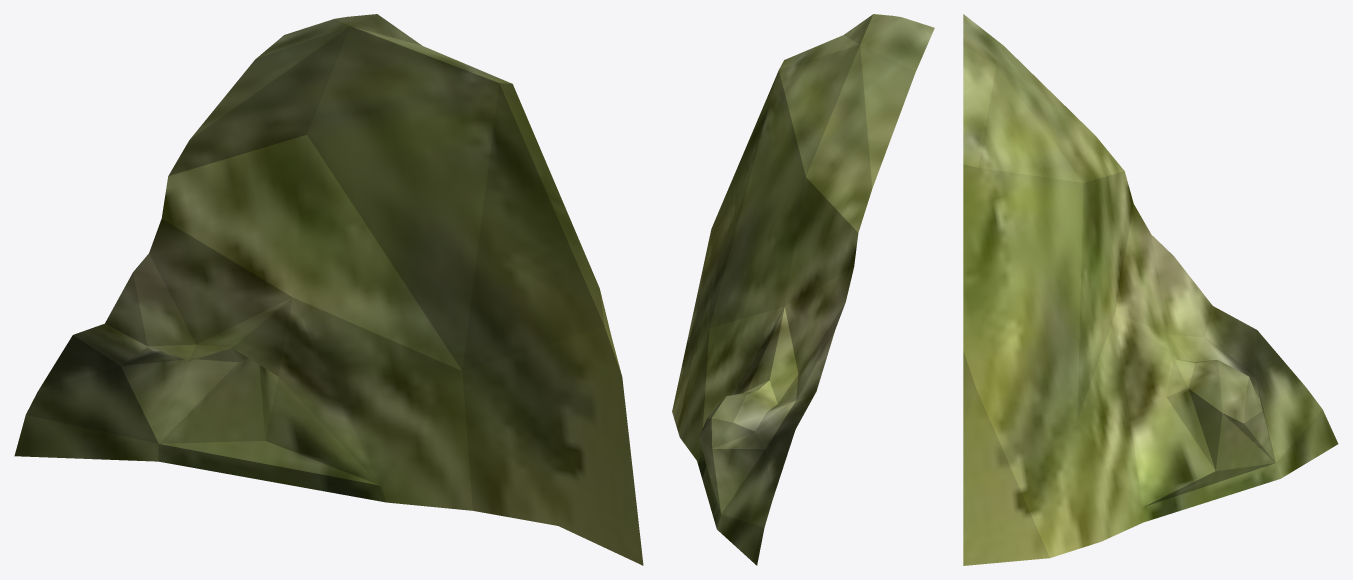
The picture shows the model from 3 angles, left to right: view 1: azimuth 30°, elevation 25°; view 2: azimuth 150°, elevation 25°; view 3: azimuth 270°, elevation 25°; orthographic projection. The views are drawn at different scales.
Bounding box in the file's own units: 0.4601 × 0.7616 × 0.5981.
1 material, 1 textured.
